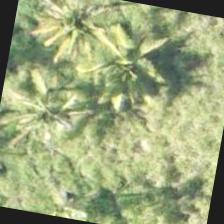Kelapa_Sawit: (69, 15, 173, 119), (0, 60, 92, 164), (28, 0, 131, 77)
